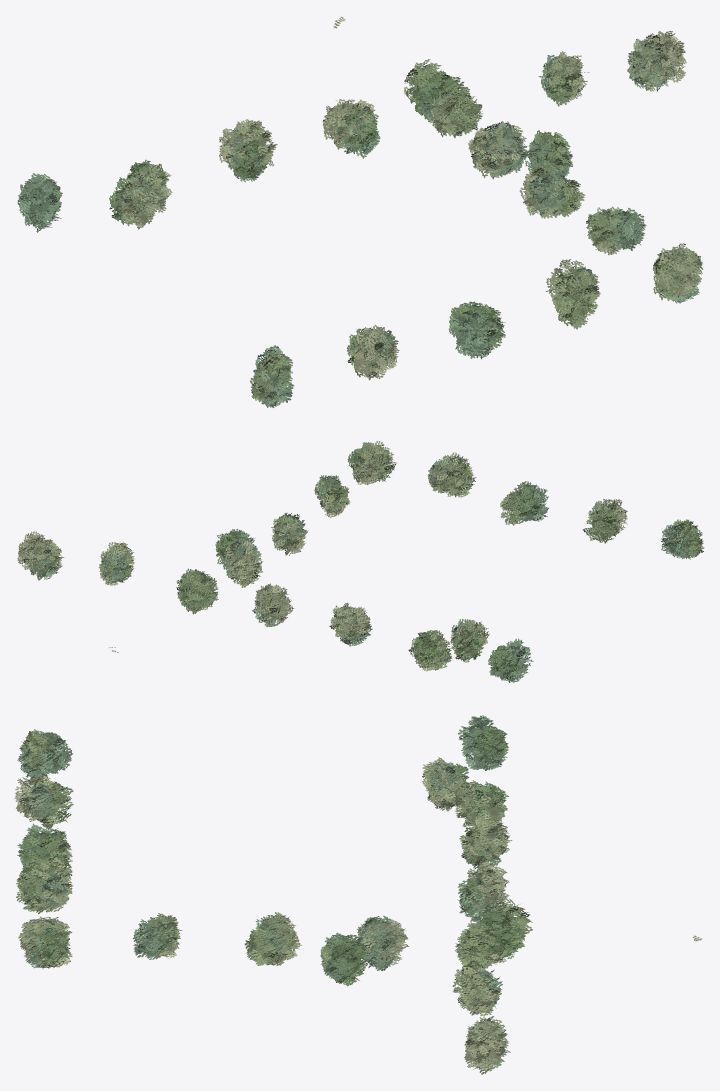
File: campus-tree-0_-1-near-photo.glb
3 renders of one model, top to bottom at view 1: azimuth 30°, elevation 25°; view 2: azimuth 150°, elevation 25°; view 3: azimuth 270°, elevation 25°, orthographic. The views are drawn at different scales.
Visible parts, largest first — view 1: Campus leaf canopy; view 2: Campus leaf canopy; view 3: Campus leaf canopy.
Part boxes in pixels (x1,y1,x2,y2): Campus leaf canopy: [17, 16, 703, 407]; Campus leaf canopy: [17, 441, 704, 682]; Campus leaf canopy: [14, 715, 701, 1074].
Bounding box in the file's own units: 73.66 × 7.74 × 68.32.
1 material, 1 textured.
